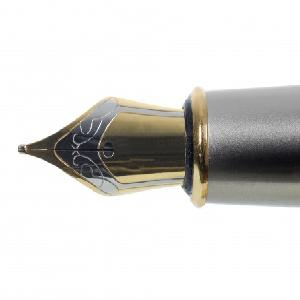pen: (12, 85, 300, 207)
